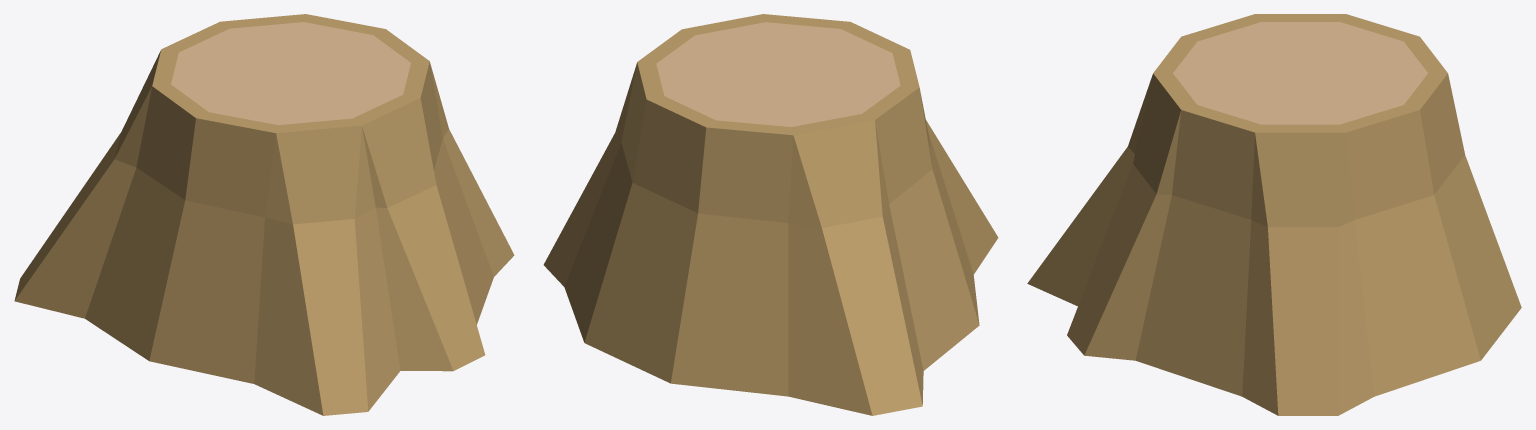
File: Oak_Stump_02_LOD.fbx
3 views of the same model, side by side, from view 1: azimuth 30°, elevation 25°; view 2: azimuth 150°, elevation 25°; view 3: azimuth 270°, elevation 25° (orthographic). The views are drawn at different scales.
Visible parts, largest first — view 1: Oak_Stump_02_LOD0; view 2: Oak_Stump_02_LOD0; view 3: Oak_Stump_02_LOD0.
Boxes of the visible parts, x1=… form: Oak_Stump_02_LOD0: x1=14, y1=14, x2=514, y2=415; Oak_Stump_02_LOD0: x1=543, y1=14, x2=998, y2=415; Oak_Stump_02_LOD0: x1=1027, y1=14, x2=1521, y2=415.
Size of what is drawn, in the model's own units: 142 by 73.64 by 139.
